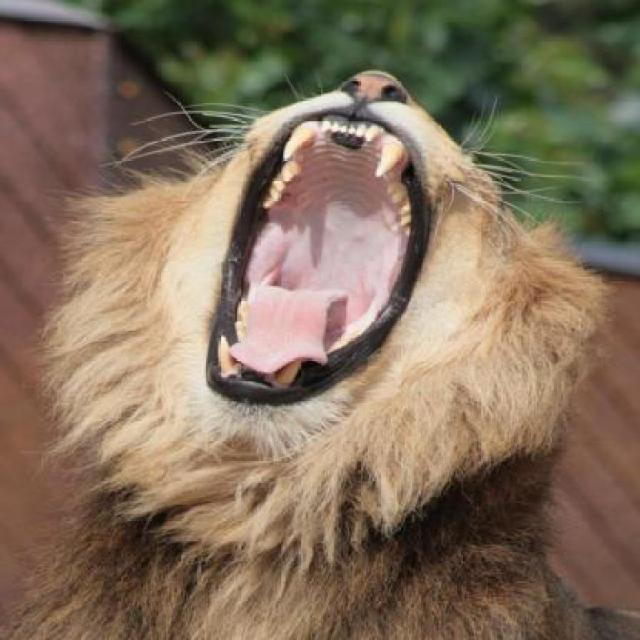Lion: (23, 61, 626, 638)
